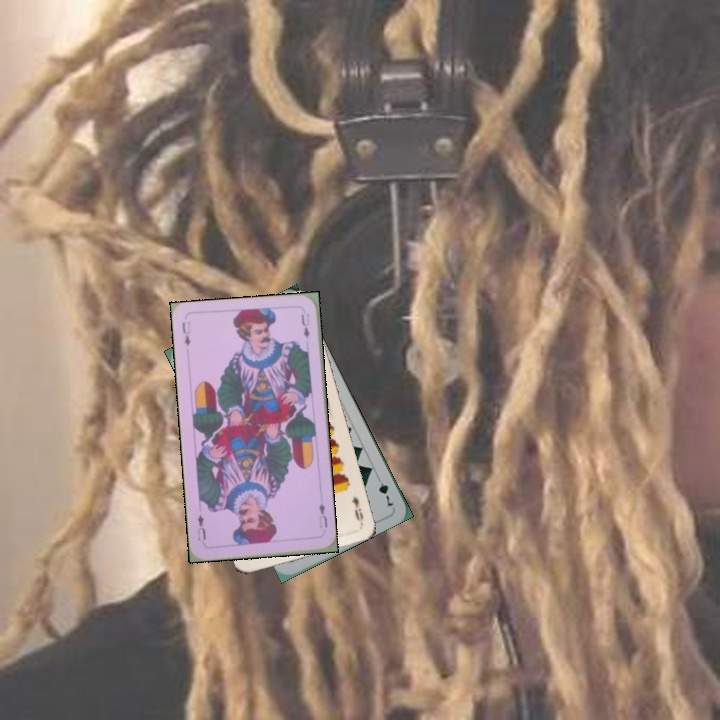E9: (348, 493, 366, 526)
EU: (315, 499, 330, 531), (178, 318, 193, 349)
G7: (372, 471, 396, 509)
